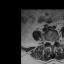CCS_stenosis: (51, 38, 53, 47)
LFS_normal: (55, 37, 57, 44)
LLS_normal: (53, 38, 55, 46)
RFS_normal: (47, 38, 49, 44)
RLS_normal: (49, 38, 51, 46)
